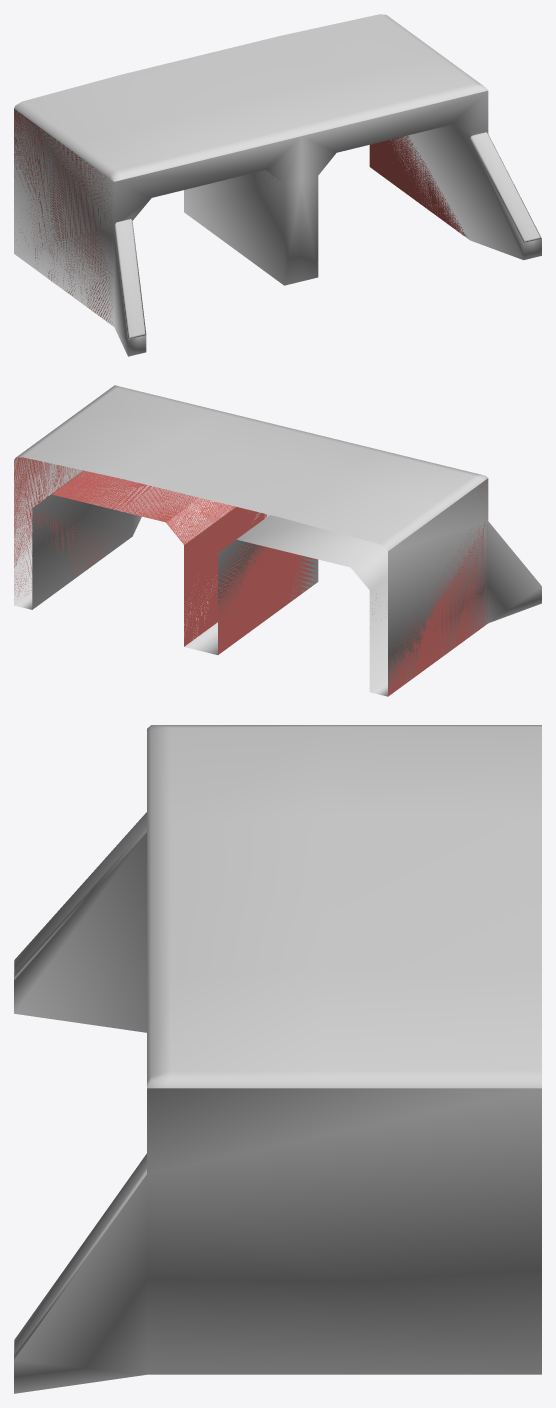
The model's file is Tunnel Snow.fbx.
The picture shows the model from 3 angles, top to bottom: view 1: azimuth 30°, elevation 25°; view 2: azimuth 150°, elevation 25°; view 3: azimuth 270°, elevation 25°; orthographic projection. The views are drawn at different scales.
Visible parts, largest first — view 1: Tunnel Snow Shadow, Tunnel Snow; view 2: Tunnel Snow Shadow, Tunnel Snow; view 3: Tunnel Snow Shadow.
Boxes of the visible parts, <box> form: Tunnel Snow Shadow: <box>14,14,541,356</box>; Tunnel Snow: <box>14,15,467,324</box>; Tunnel Snow Shadow: <box>14,385,541,696</box>; Tunnel Snow: <box>14,417,487,696</box>; Tunnel Snow Shadow: <box>14,725,541,1393</box>.
Size of the model in its own units: 1191 by 421 by 668.
